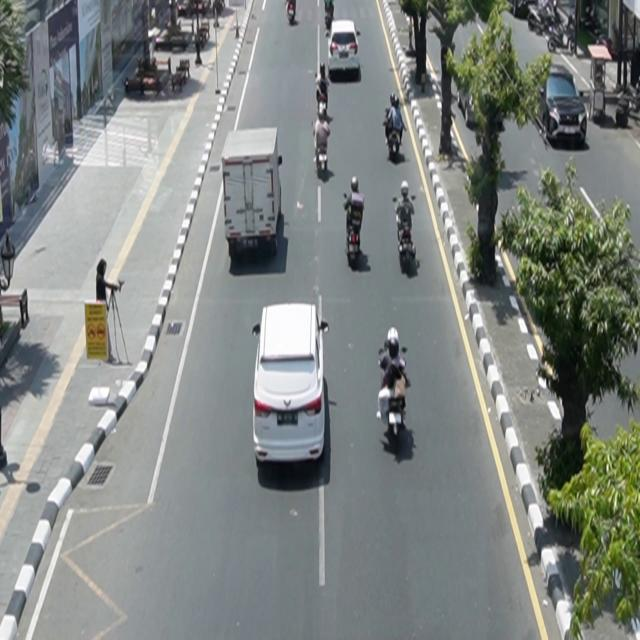car: (252, 302, 330, 467), (540, 66, 588, 147)
truck: (222, 127, 284, 262)
